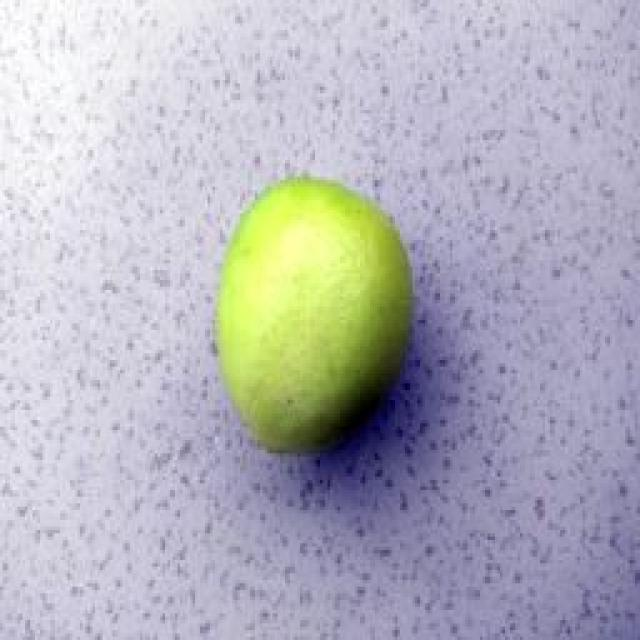lemon: (222, 177, 411, 451)
